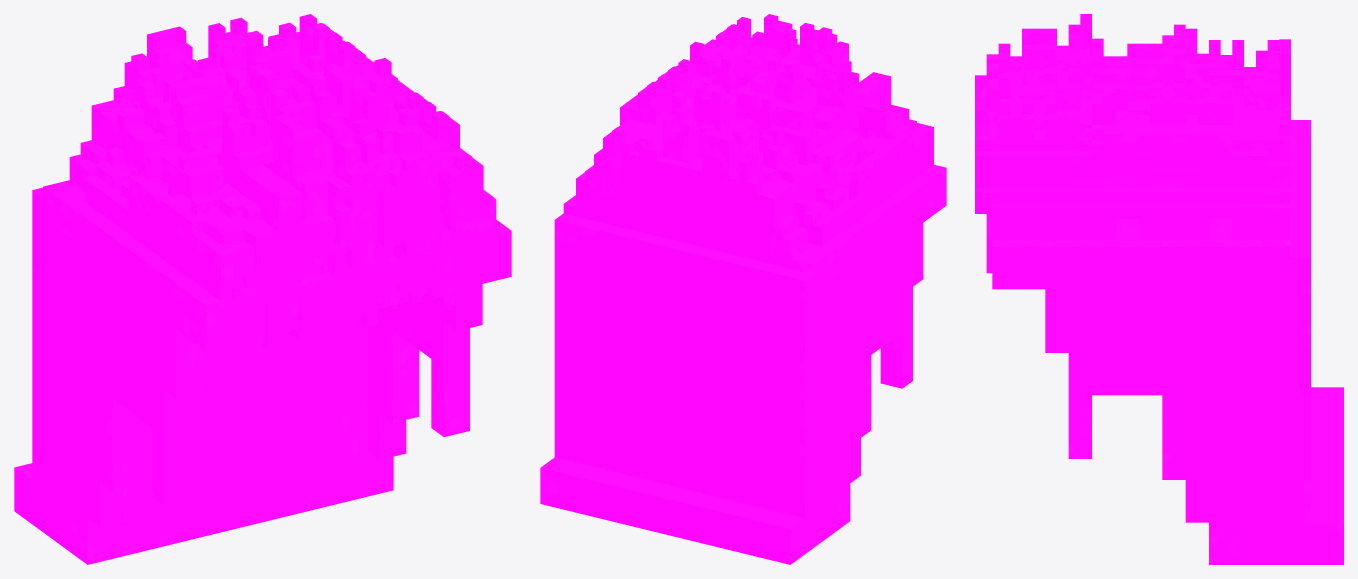
The model's file is mullet_pink.glb.
3 renders of one model, left to right at view 1: azimuth 30°, elevation 25°; view 2: azimuth 150°, elevation 25°; view 3: azimuth 270°, elevation 25°, orthographic. The views are drawn at different scales.
Parts seen in each view (by area): view 1: blonde_mullet; view 2: blonde_mullet; view 3: blonde_mullet.
Part boxes in pixels (<box>): blonde_mullet: <box>14,14,511,564</box>; blonde_mullet: <box>540,14,946,564</box>; blonde_mullet: <box>975,14,1343,564</box>.
Size of the model in its own units: 2.78 by 4.2 by 3.15.
1 material, 1 textured.
